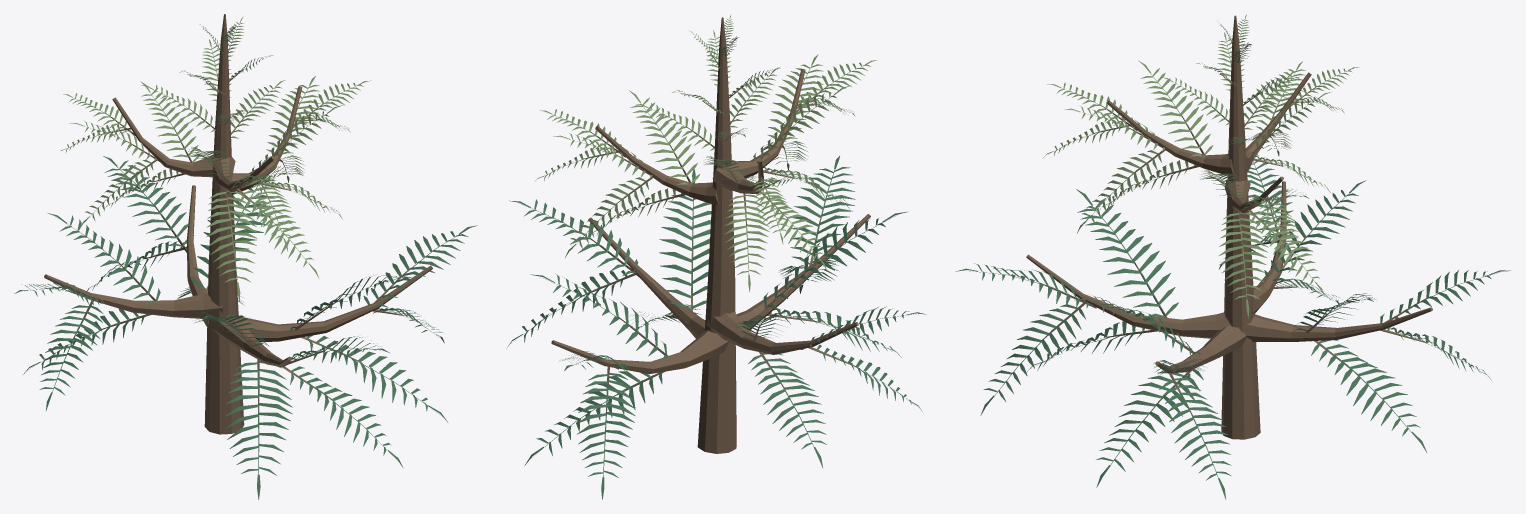
The model's file is conifer-upper.glb.
The picture shows the model from 3 angles, left to right: view 1: azimuth 30°, elevation 25°; view 2: azimuth 150°, elevation 25°; view 3: azimuth 270°, elevation 25°; orthographic projection. The views are drawn at different scales.
Visible parts, largest first — view 1: Frozen r17 A needle strips in local overlapping clusters, Unchanged main wood prefix plus fine supports; view 2: Frozen r17 A needle strips in local overlapping clusters, Unchanged main wood prefix plus fine supports; view 3: Frozen r17 A needle strips in local overlapping clusters, Unchanged main wood prefix plus fine supports.
Boxes of the visible parts, box(x1,y1,x2,y2) form: Frozen r17 A needle strips in local overlapping clusters: box(14, 16, 477, 499); Unchanged main wood prefix plus fine supports: box(44, 14, 432, 434); Frozen r17 A needle strips in local overlapping clusters: box(507, 14, 926, 499); Unchanged main wood prefix plus fine supports: box(551, 17, 870, 453); Frozen r17 A needle strips in local overlapping clusters: box(955, 14, 1510, 499); Unchanged main wood prefix plus fine supports: box(1026, 15, 1432, 439).
Bounding box in the file's own units: 2.23 × 2.03 × 2.47.
